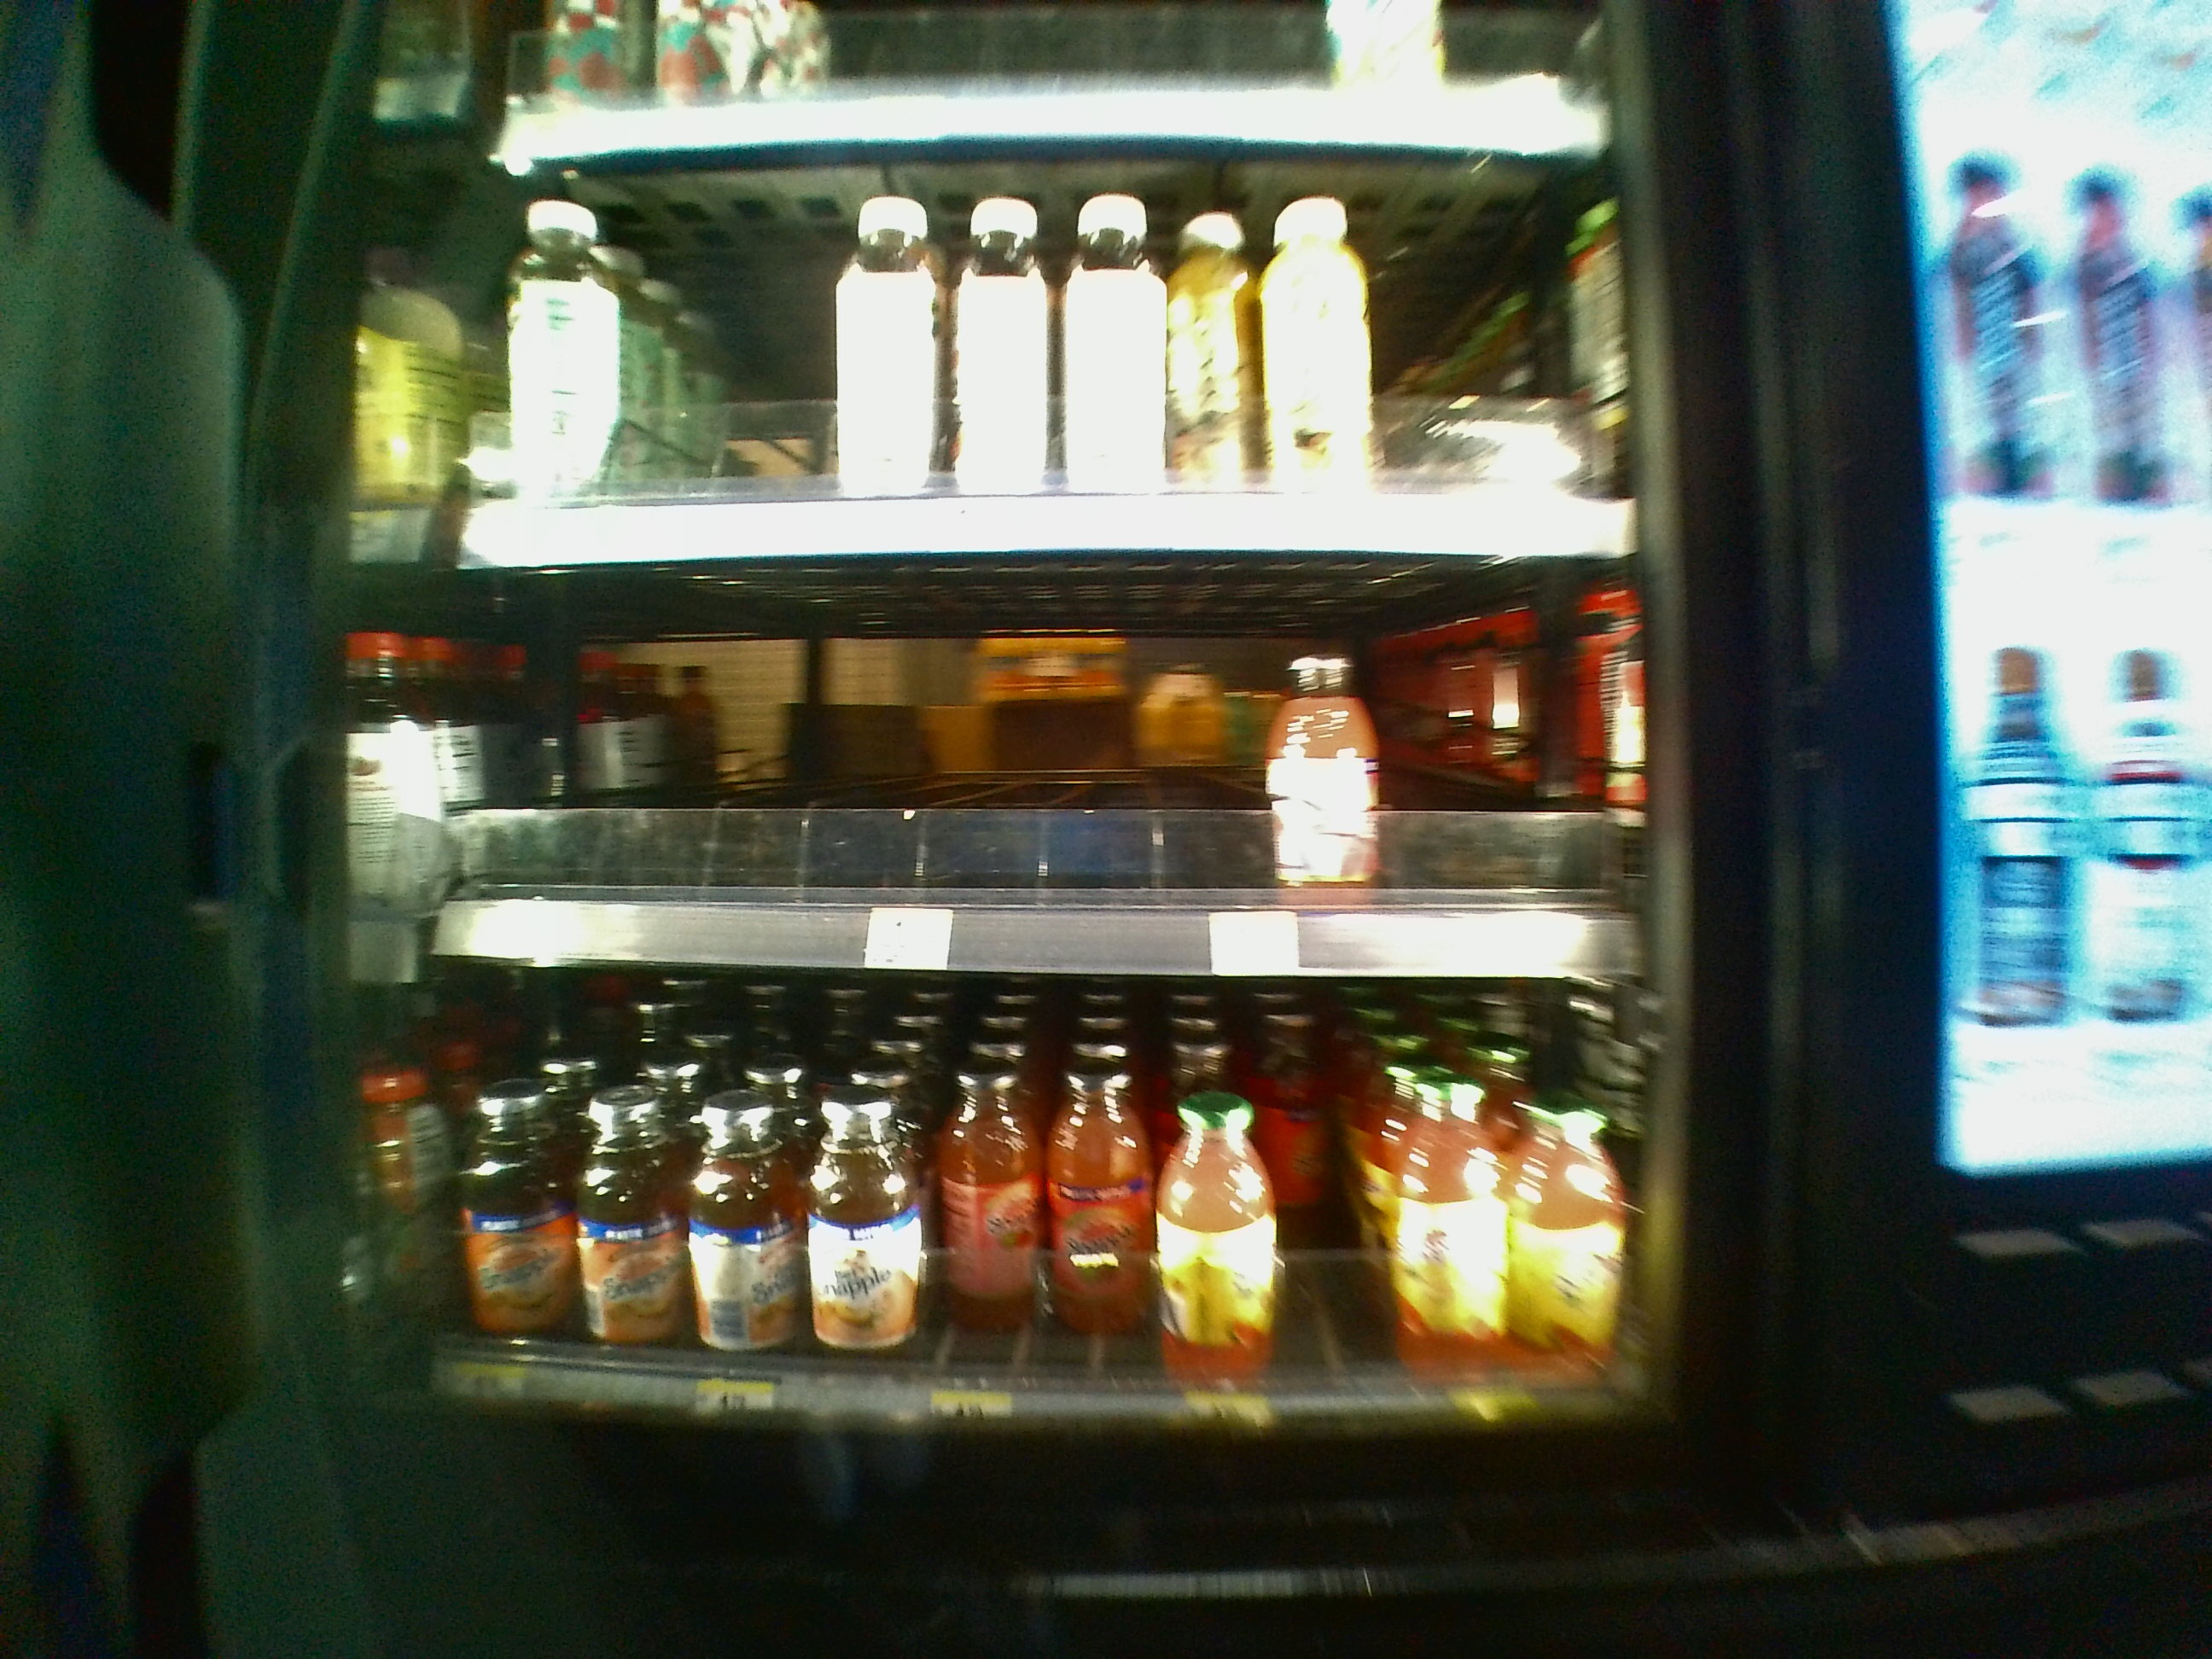shelf: (428, 997, 1649, 1450), (441, 566, 1644, 983)
